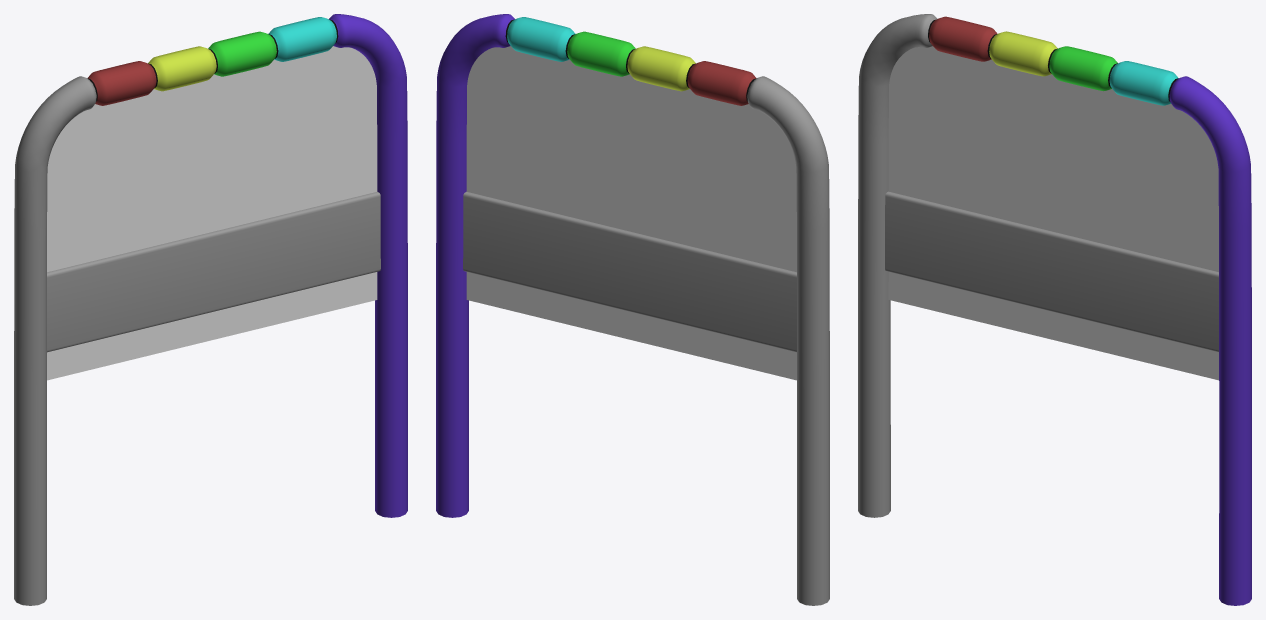
The model's file is DoorFrame.fbx.
3 views of the same model, side by side, from view 1: azimuth 30°, elevation 25°; view 2: azimuth 150°, elevation 25°; view 3: azimuth 330°, elevation 25° (orthographic).
Visible parts, largest first — view 1: GateLight, DoorFrame, Barrier; view 2: GateLight, DoorFrame, Barrier; view 3: GateLight, DoorFrame, Barrier.
Boxes of the visible parts, <box> form: GateLight: <box>47,46,377,380</box>; DoorFrame: <box>14,14,407,605</box>; Barrier: <box>47,191,380,352</box>; GateLight: <box>466,46,796,380</box>; DoorFrame: <box>436,14,829,605</box>; Barrier: <box>463,191,796,352</box>; GateLight: <box>888,46,1218,380</box>; DoorFrame: <box>858,14,1251,605</box>; Barrier: <box>885,191,1218,352</box>.
Size of the model in its own units: 356 by 445 by 28.39.
